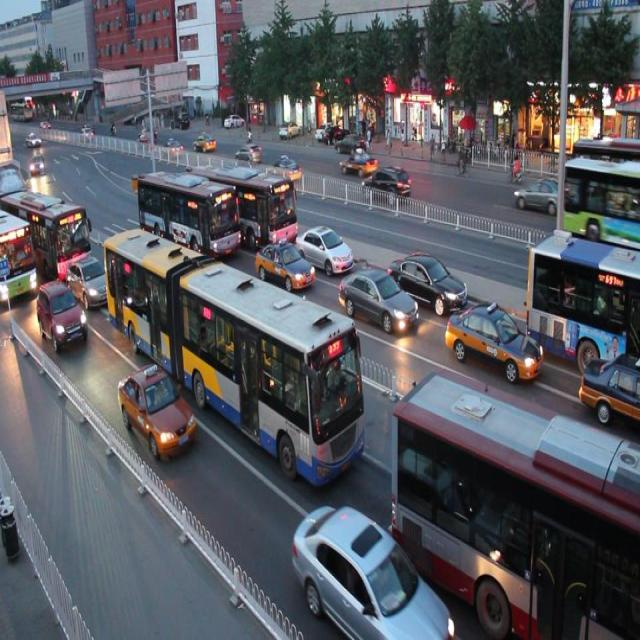car: (291, 495, 454, 640), (446, 294, 544, 382), (118, 362, 195, 459), (337, 258, 416, 331), (390, 243, 468, 309), (579, 346, 640, 424), (253, 230, 314, 289), (36, 279, 87, 349), (294, 214, 352, 273), (67, 255, 114, 309)
van: (102, 218, 366, 482), (390, 372, 640, 640), (526, 230, 640, 364), (136, 160, 240, 262), (191, 153, 298, 248), (1, 182, 90, 272), (1, 208, 38, 310)
